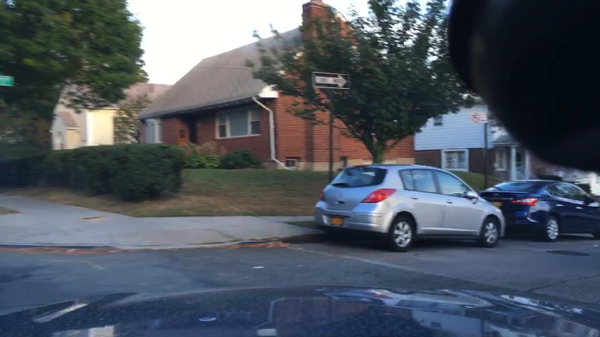car: (314, 164, 505, 254), (478, 179, 599, 242)
traffic sign: (312, 72, 347, 90), (469, 110, 486, 123), (0, 74, 15, 88)
